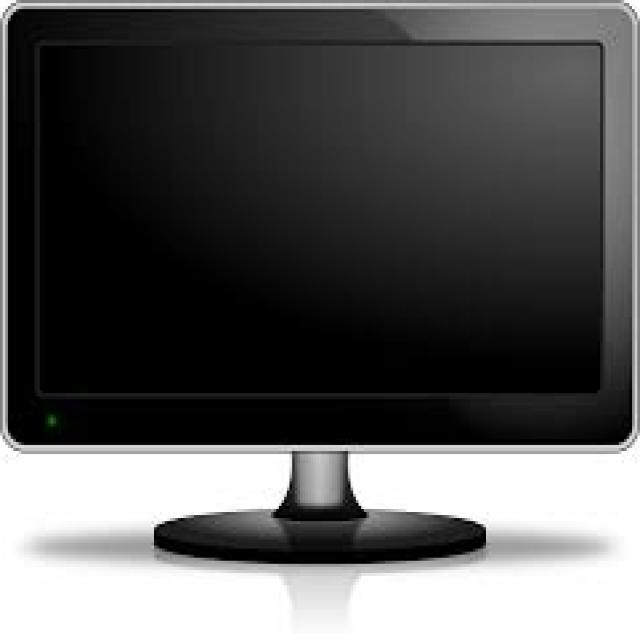monitor: (0, 0, 640, 618)
